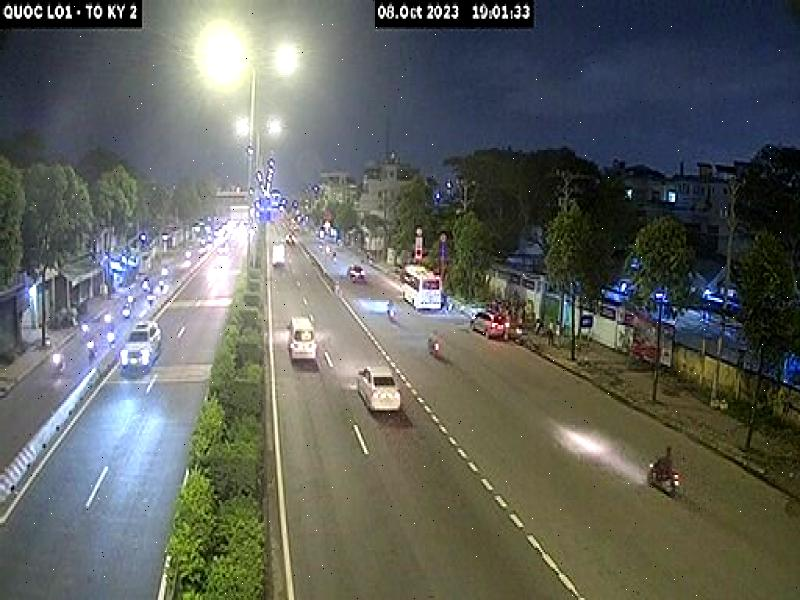bus: (396, 257, 438, 324)
car: (282, 314, 345, 423), (118, 310, 163, 394), (354, 360, 401, 432), (466, 305, 508, 353)
